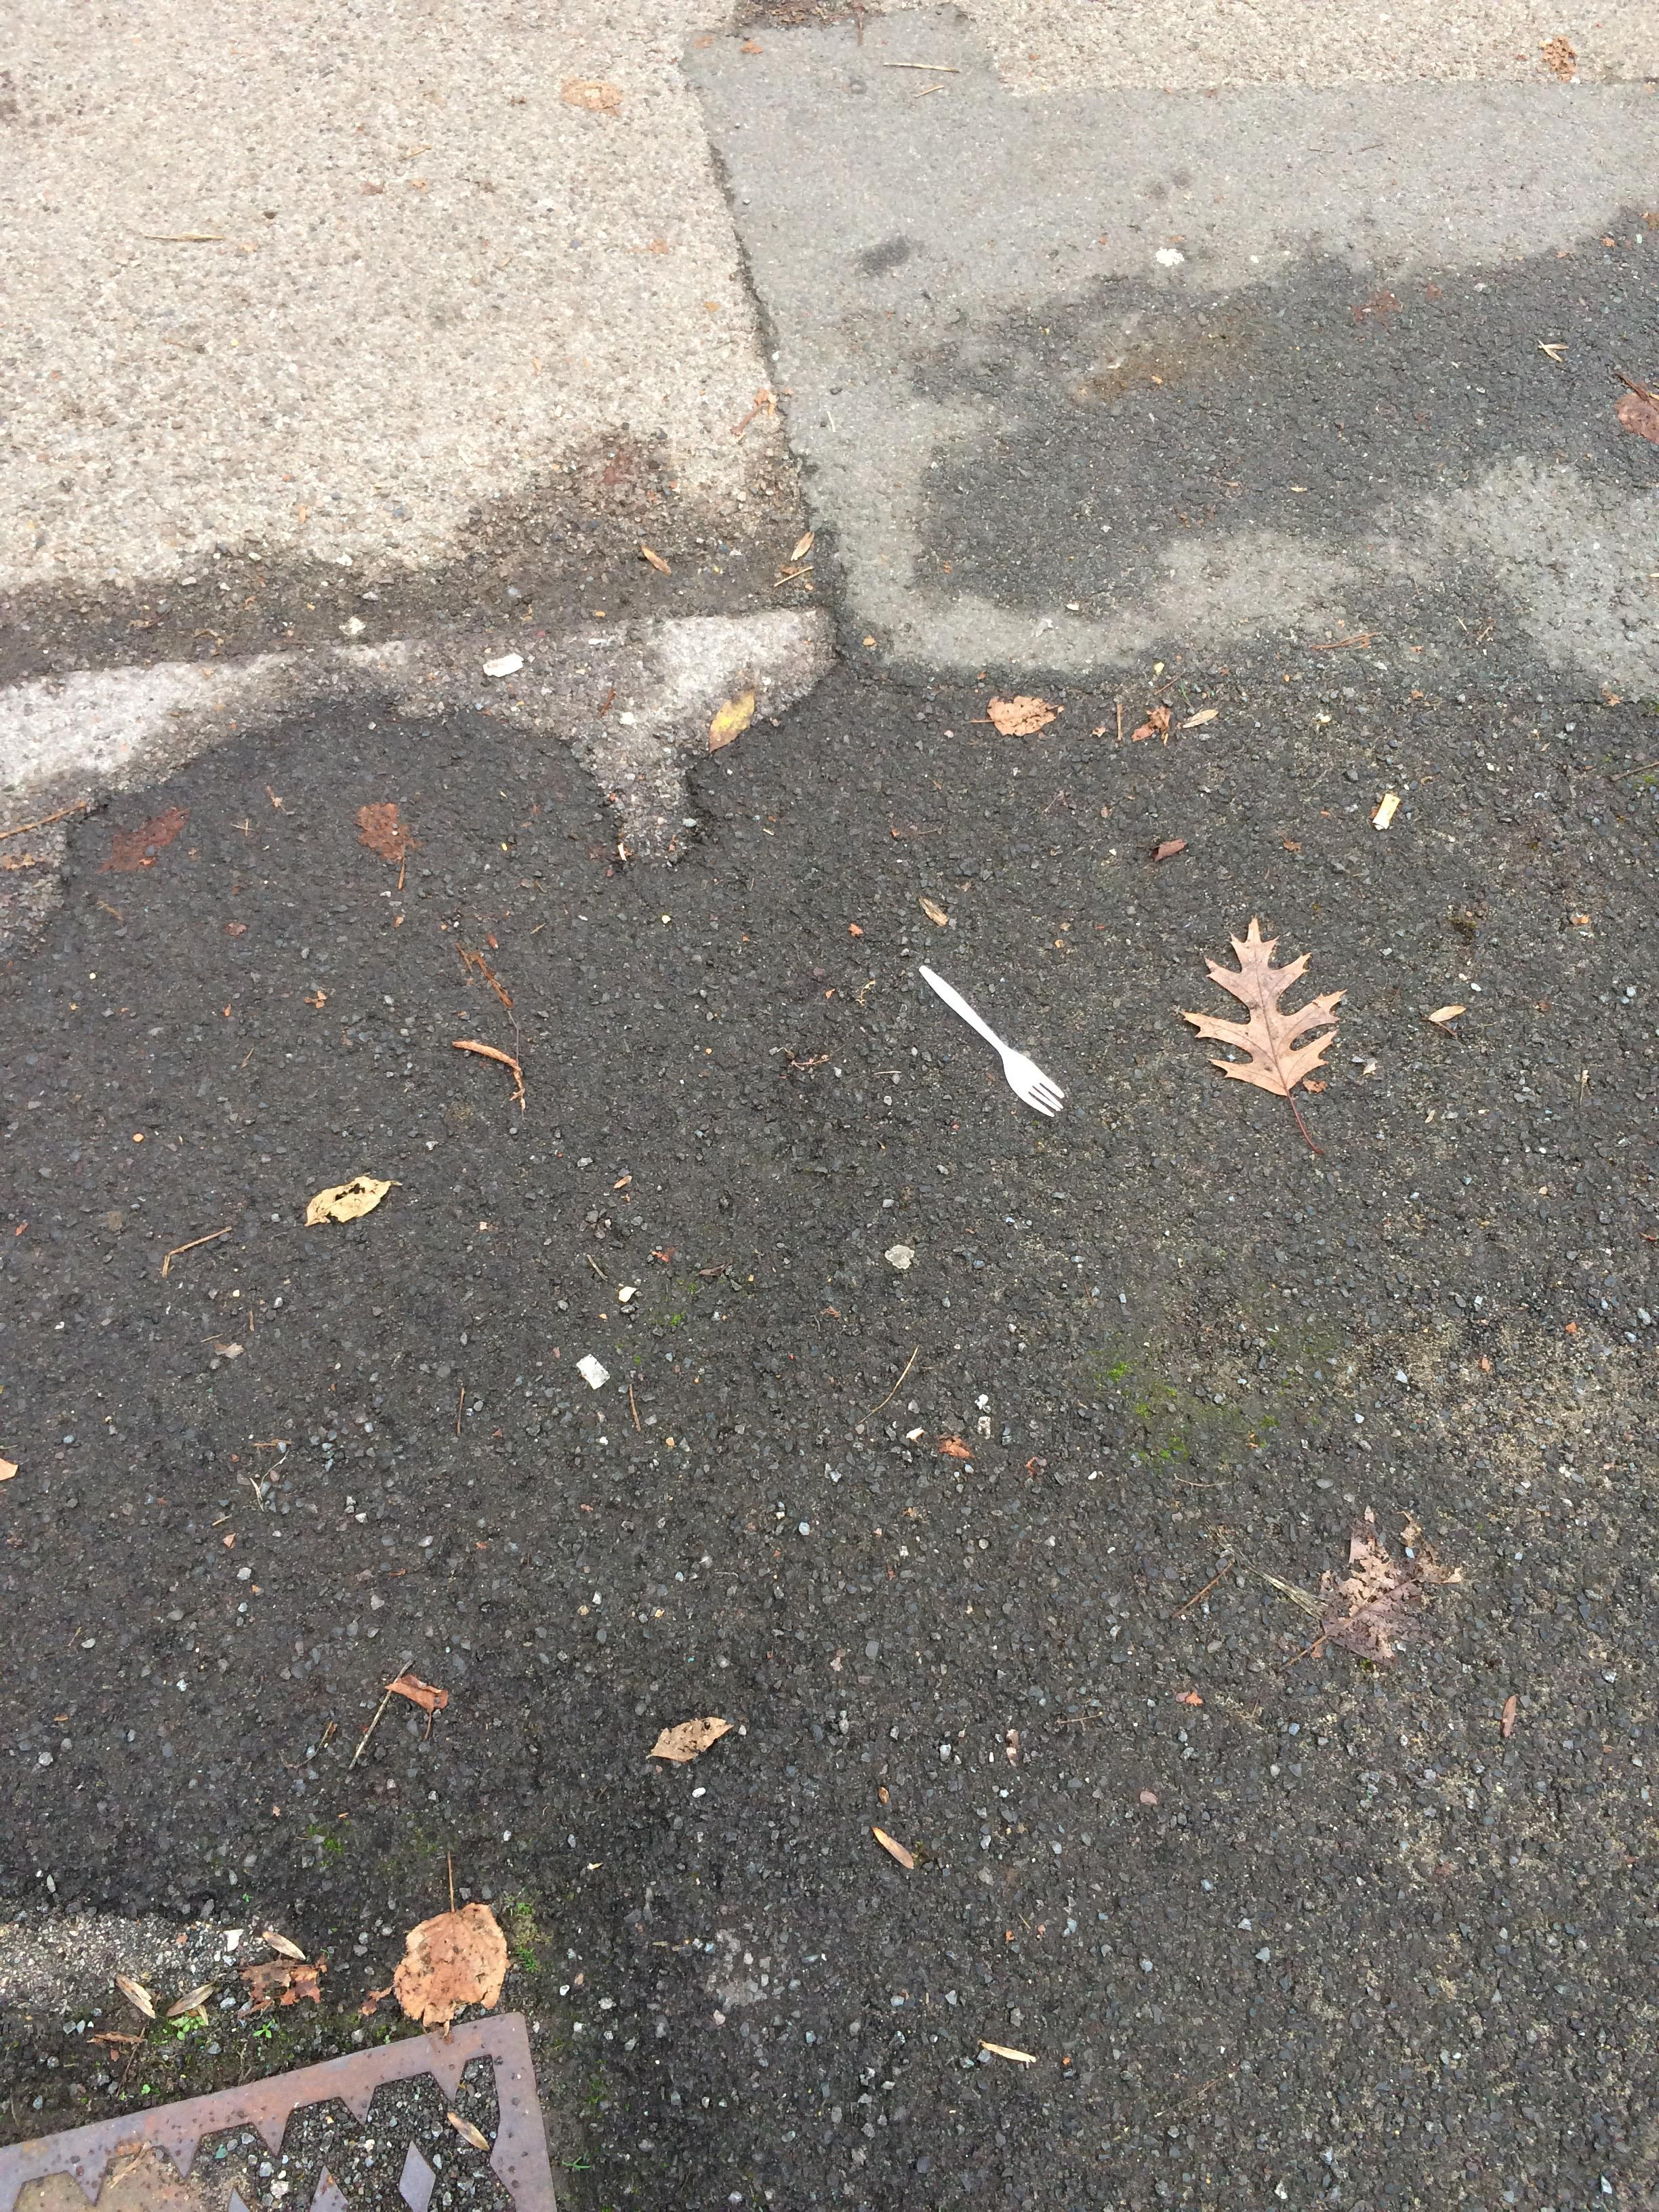Trash: (913, 961, 1065, 1125)
